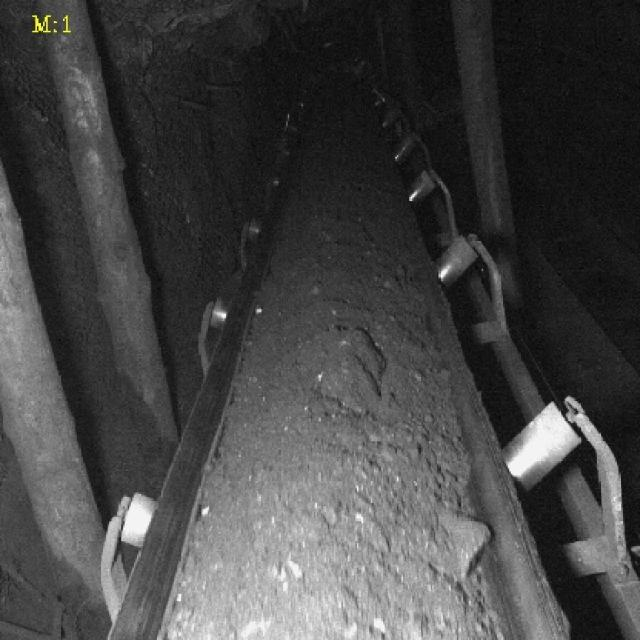large_sized_coal: (294, 330, 383, 412), (424, 504, 490, 576)
